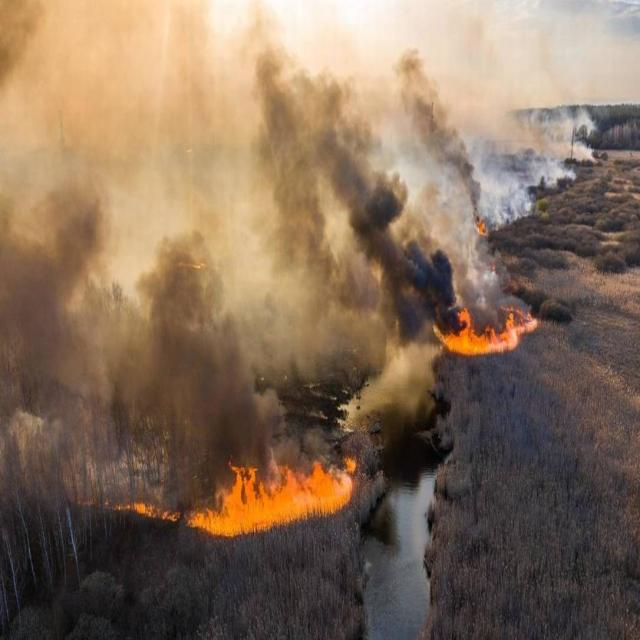smoke: (15, 249, 231, 443), (278, 86, 470, 294)
